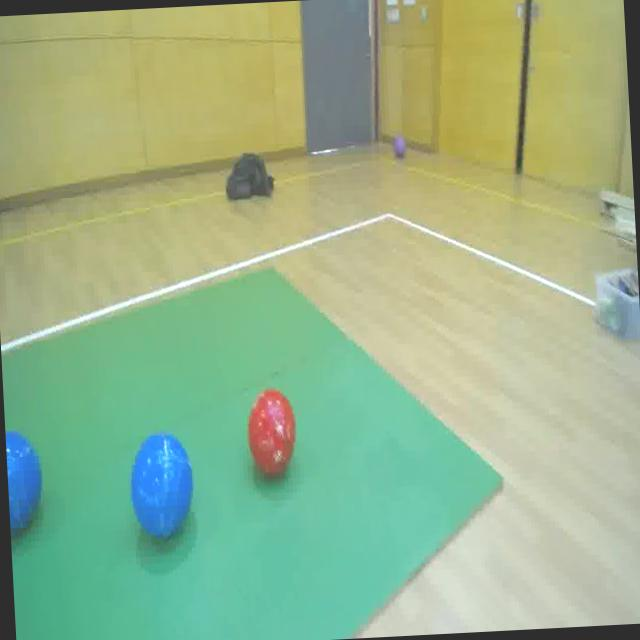blue_ball: (128, 429, 198, 548), (5, 421, 44, 549)
purple_ball: (390, 128, 408, 164)
red_ball: (246, 381, 298, 482)
